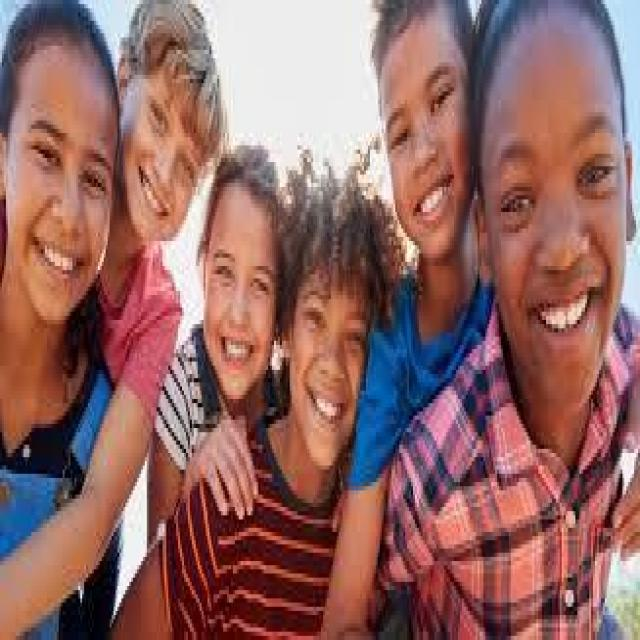person: (452, 17, 638, 628), (4, 0, 119, 636), (342, 0, 490, 395), (274, 129, 395, 565), (180, 96, 286, 520), (112, 17, 202, 494)
